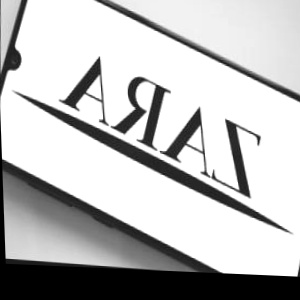zara: (252, 107, 300, 174)
